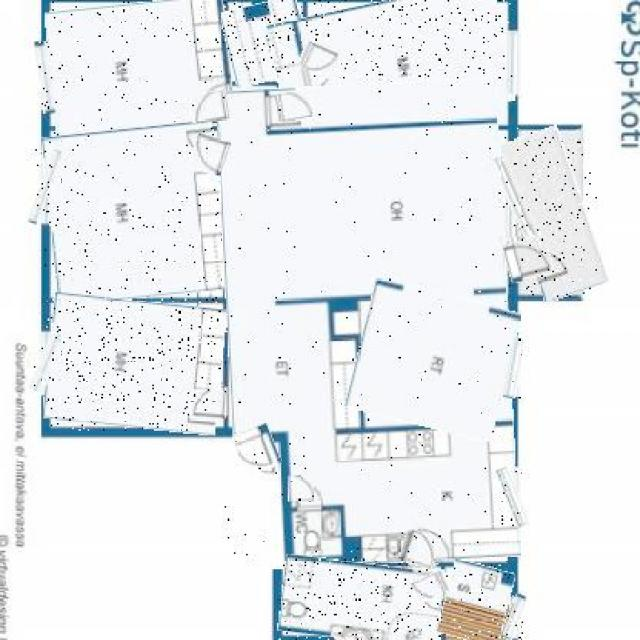door: (236, 424, 278, 474), (506, 237, 552, 280), (191, 135, 229, 174), (402, 529, 438, 568), (298, 43, 340, 75), (190, 91, 228, 123), (412, 572, 451, 600), (277, 90, 311, 122), (191, 391, 226, 418), (288, 477, 314, 505)
window: (502, 152, 532, 243), (34, 149, 55, 226), (34, 332, 57, 394), (37, 40, 55, 114), (502, 466, 523, 528), (505, 337, 523, 398), (505, 31, 520, 94), (505, 594, 523, 640)
zone: (221, 82, 514, 566), (271, 0, 511, 134), (44, 125, 224, 302), (47, 0, 230, 132), (352, 286, 514, 434), (46, 298, 225, 431), (505, 128, 597, 298), (278, 558, 442, 640), (223, 0, 308, 83), (441, 561, 510, 640)
